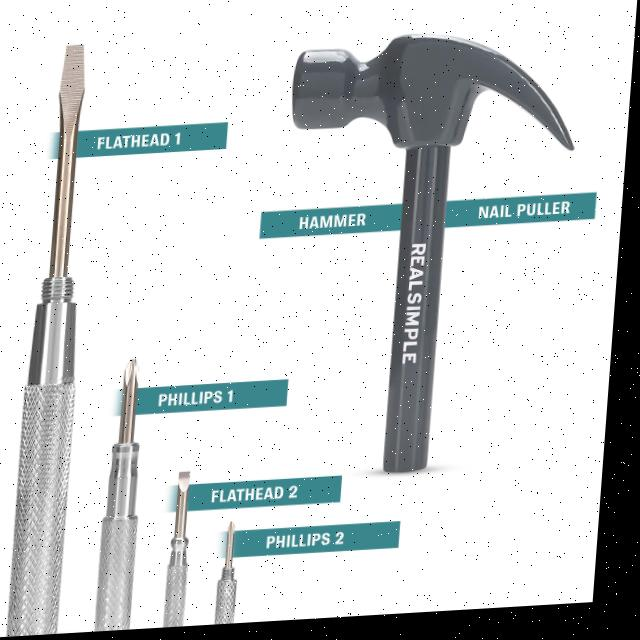Screwdriver: (17, 46, 86, 637), (104, 361, 146, 633), (173, 475, 198, 630), (225, 525, 246, 627)
